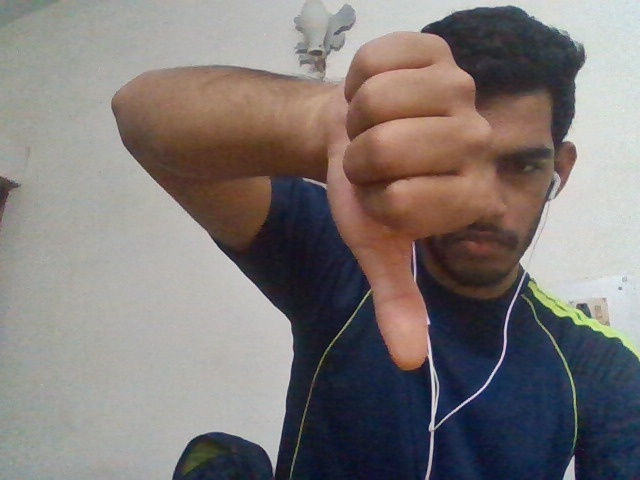no: (329, 32, 500, 368)
